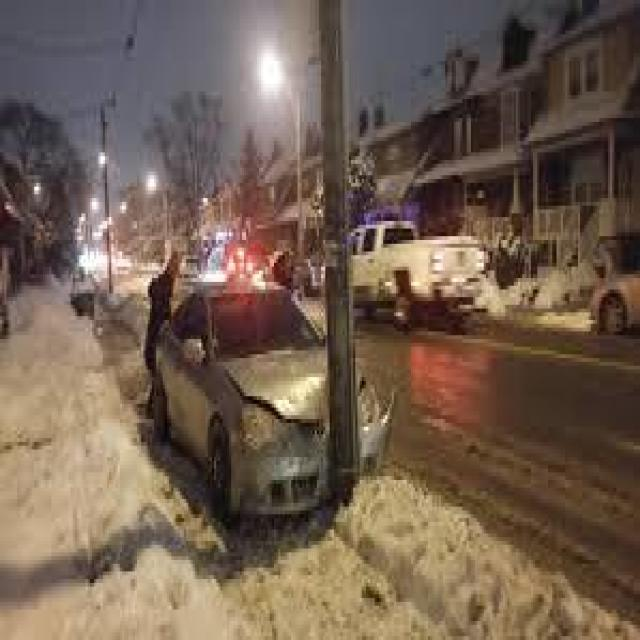moderate: (146, 268, 392, 532)
